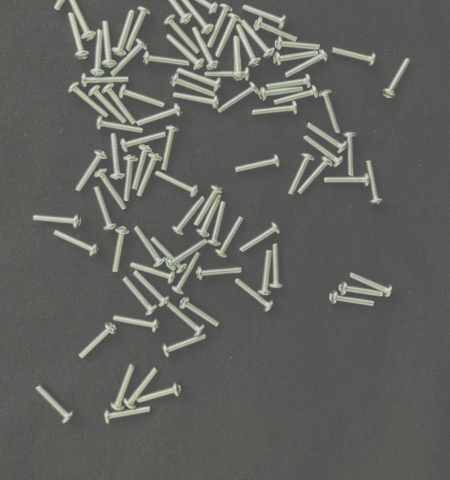longscrew: (34, 382, 76, 426), (87, 84, 129, 125), (77, 321, 120, 361), (67, 80, 111, 119), (123, 365, 161, 410), (162, 13, 202, 55), (101, 81, 138, 126), (93, 167, 129, 213), (148, 234, 188, 275), (164, 31, 205, 71), (73, 149, 109, 194), (131, 268, 171, 308), (165, 299, 206, 338), (120, 274, 158, 316), (239, 17, 276, 60), (381, 54, 414, 102), (164, 237, 209, 272), (133, 223, 167, 269), (234, 276, 275, 314), (109, 38, 149, 76), (215, 81, 261, 114), (214, 214, 247, 260), (171, 195, 207, 237), (109, 361, 138, 413), (305, 120, 349, 154), (238, 221, 283, 254), (193, 183, 226, 228), (297, 156, 334, 196), (171, 250, 203, 296), (52, 228, 101, 258), (178, 296, 222, 329), (134, 150, 164, 198), (302, 133, 344, 167), (214, 13, 244, 60), (286, 151, 317, 196), (124, 5, 153, 53), (206, 2, 235, 50), (161, 331, 210, 359), (242, 1, 289, 30), (348, 269, 395, 298), (195, 192, 224, 239), (191, 25, 220, 72), (175, 65, 223, 93), (153, 168, 199, 197), (92, 183, 118, 234), (283, 50, 330, 78), (235, 22, 263, 69), (317, 87, 344, 135), (169, 71, 217, 98), (128, 259, 177, 285), (252, 15, 299, 42), (67, 0, 97, 42), (178, 0, 214, 35), (135, 380, 185, 405), (135, 103, 185, 128), (112, 8, 137, 57), (67, 11, 91, 62), (118, 83, 166, 108), (329, 44, 378, 68), (119, 129, 168, 153), (110, 225, 133, 275), (131, 143, 155, 190), (233, 152, 284, 174), (205, 200, 228, 248), (112, 313, 162, 335), (272, 84, 321, 106), (102, 404, 153, 425), (365, 157, 386, 207), (94, 115, 145, 135), (160, 124, 181, 172), (31, 212, 84, 231), (108, 130, 127, 183), (171, 90, 221, 110), (329, 289, 376, 310), (272, 47, 320, 67), (142, 49, 190, 69), (337, 280, 385, 299), (265, 73, 315, 91), (122, 153, 140, 203), (157, 0, 193, 25), (274, 34, 321, 53), (257, 247, 274, 297), (195, 264, 245, 281), (80, 71, 130, 88), (100, 18, 117, 68), (251, 100, 300, 117), (343, 130, 360, 179), (269, 242, 286, 291), (203, 66, 253, 82), (323, 172, 373, 188), (89, 27, 105, 77), (258, 85, 305, 102), (231, 34, 247, 82), (174, 0, 219, 15), (51, 0, 86, 13)
